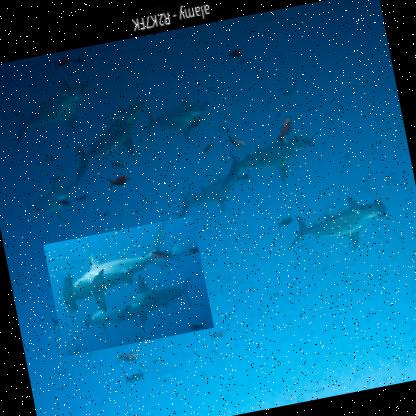hammerhead_Shark: (42, 214, 214, 356), (276, 182, 404, 276)
